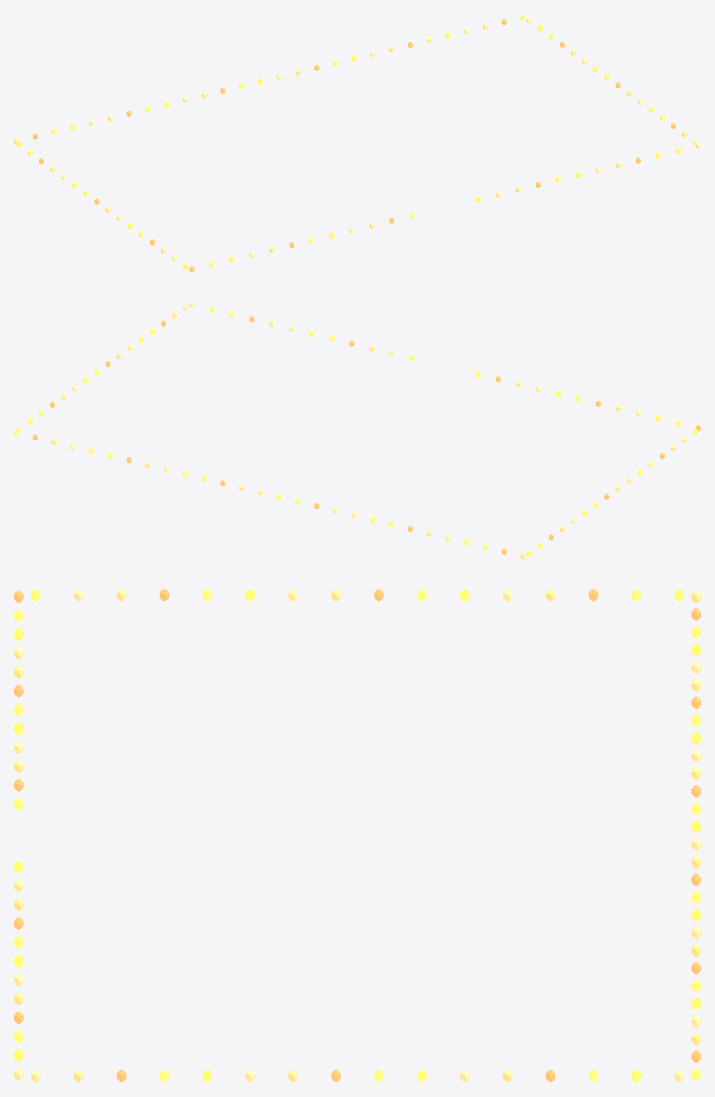
The model's file is IceRink_Lights.glb.
3 renders of one model, top to bottom at view 1: azimuth 30°, elevation 25°; view 2: azimuth 150°, elevation 25°; view 3: azimuth 270°, elevation 25°, orthographic. The views are drawn at different scales.
Parts seen in each view (by area): view 1: IceRink_Lights; view 2: IceRink_Lights; view 3: IceRink_Lights.
Boxes of the visible parts, box(x1,y1,x2,y2) form: IceRink_Lights: box(14, 14, 700, 272); IceRink_Lights: box(14, 301, 700, 559); IceRink_Lights: box(14, 588, 700, 1082).
Size of the model in its own units: 44.89 by 0.572 by 26.87.
